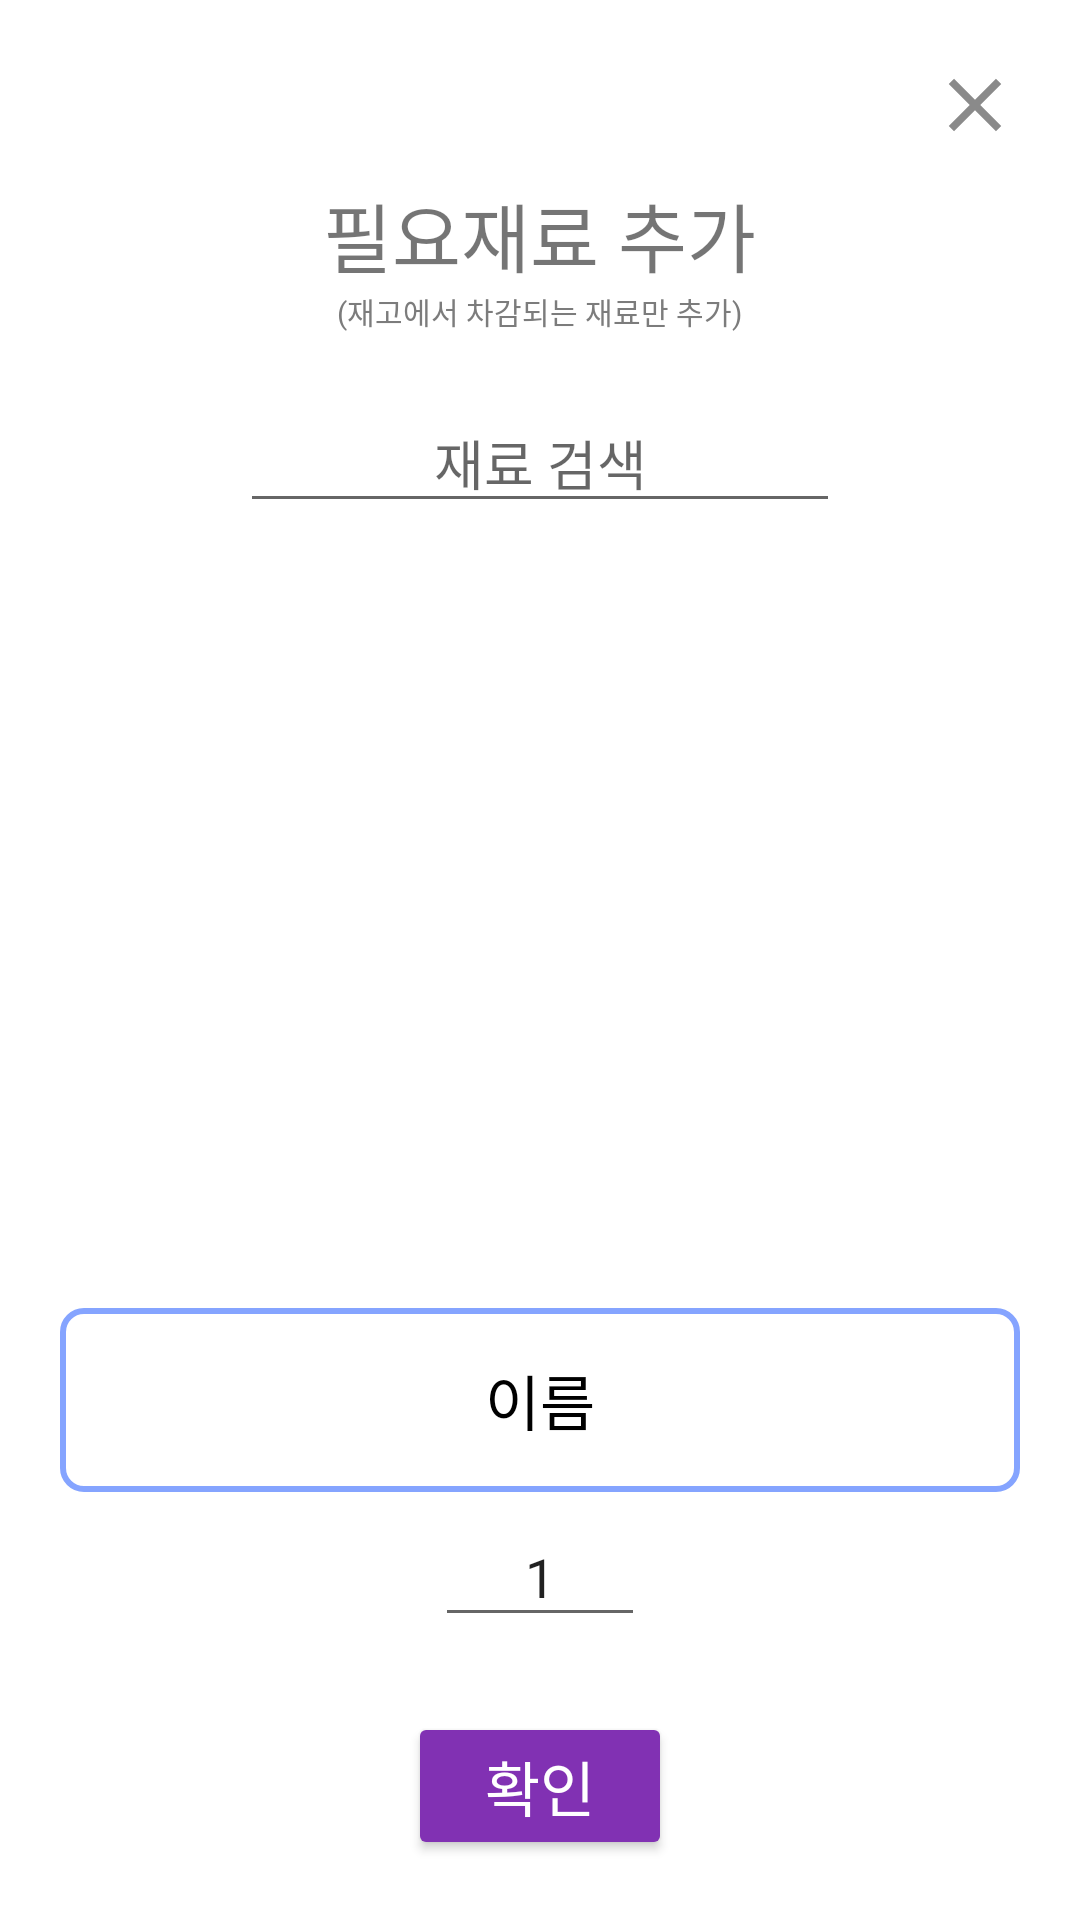

Named icons in this screenshot (1080w x 1920h) and their centers, (x=x, y=y):
close: (x=975, y=105)
